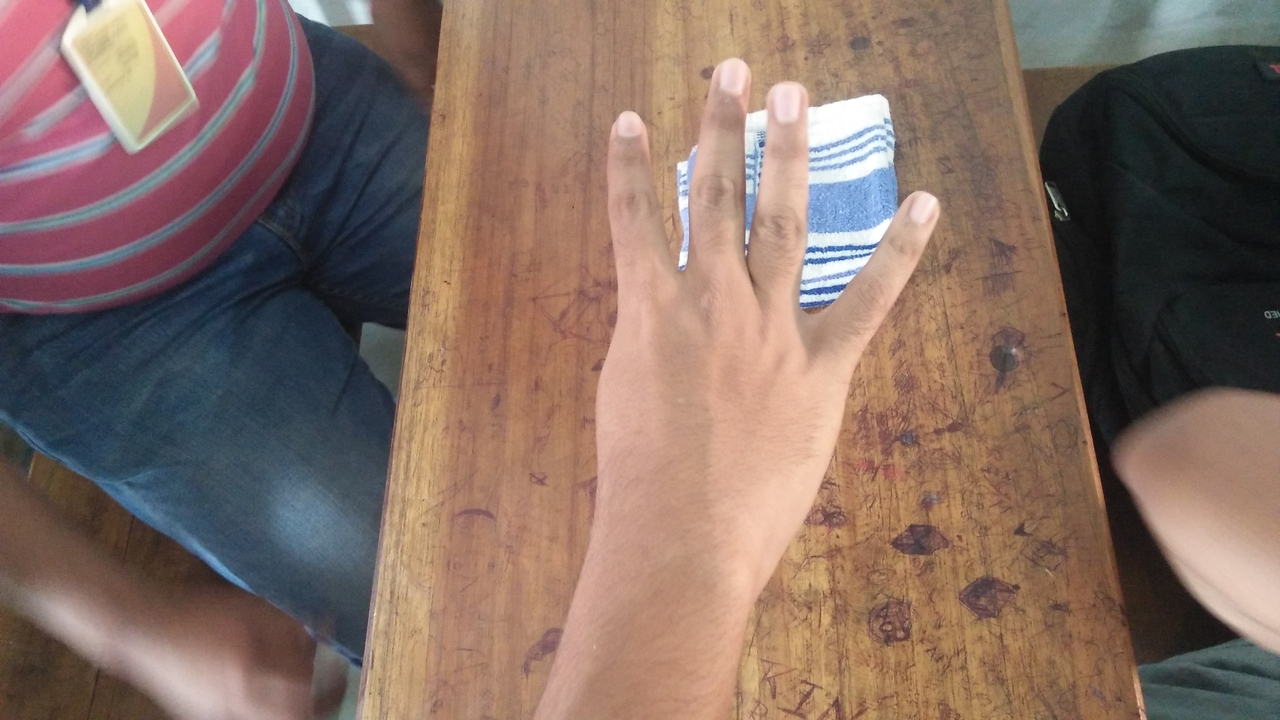fingertip: (890, 178, 958, 236), (762, 78, 822, 128), (706, 52, 756, 102), (600, 106, 656, 148)
